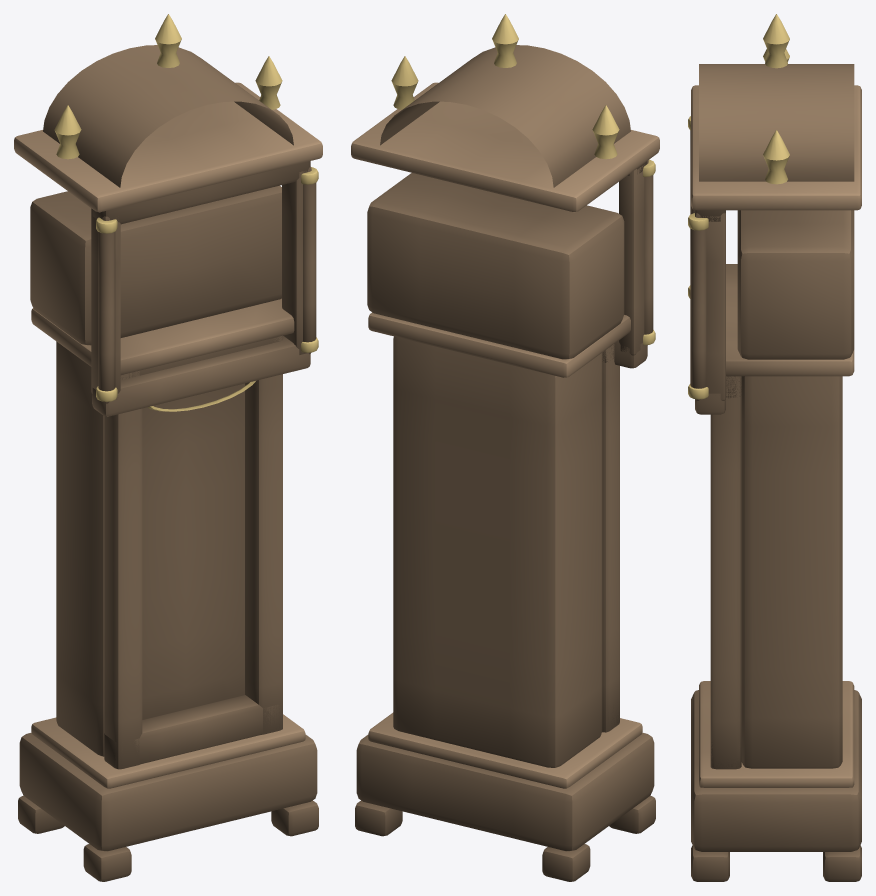
Rendered from obj_kit_clock.glb.
3 renders of one model, left to right at view 1: azimuth 30°, elevation 25°; view 2: azimuth 150°, elevation 25°; view 3: azimuth 270°, elevation 25°, orthographic.
Parts seen in each view (by area): view 1: Cube.006, Cube.012, Cube.004, Cube.017, Cylinder.006, Cube.007, Cube.008, Cube.011, Cube.014, Cube.009, Cube.005, Cube.013 (+11 smaller); view 2: Cube.006, Cube.012, Cube.004, Cube.017, Cylinder.006, Cube.007, Cube.005, Cube.011, Cube.015, Cylinder, Cube.001, Cube.003 (+5 smaller); view 3: Cube.006, Cube.012, Cylinder.006, Cube.004, Cube.008, Cube.017, Cube.005, Cube.016, Cube.011, Cylinder.003, Cube.002, Cube.003 (+3 smaller).
Boxes of the visible parts, box(x1,y1,x2,y2) form: Cube.006: box(56, 341, 244, 756); Cube.012: box(30, 185, 281, 345); Cube.004: box(19, 732, 317, 851); Cube.017: box(14, 82, 322, 212); Cylinder.006: box(43, 45, 293, 187); Cube.007: box(104, 371, 142, 769); Cube.008: box(245, 335, 282, 734); Cube.011: box(31, 298, 294, 374); Cube.014: box(92, 336, 310, 416); Cube.009: box(104, 695, 282, 766); Cube.005: box(31, 714, 305, 788); Cube.013: box(92, 161, 310, 224); Cube.006: box(393, 336, 602, 767); Cube.012: box(367, 173, 624, 359); Cube.004: box(356, 732, 654, 851); Cube.017: box(351, 82, 659, 212); Cylinder.006: box(380, 45, 630, 187); Cube.007: box(602, 344, 619, 732); Cube.005: box(368, 712, 642, 788); Cube.011: box(368, 312, 630, 377); Cube.015: box(619, 160, 648, 355); Cylinder: box(644, 175, 653, 334); Cube.001: box(542, 844, 590, 881); Cube.003: box(355, 800, 402, 836); Cube.006: box(741, 376, 842, 768); Cube.012: box(737, 210, 854, 359); Cylinder.006: box(699, 64, 854, 181); Cube.004: box(691, 690, 861, 851); Cube.008: box(710, 376, 741, 769); Cube.017: box(691, 85, 861, 210); Cube.005: box(699, 681, 854, 787); Cube.016: box(695, 213, 725, 400); Cube.011: box(726, 264, 854, 376); Cylinder.003: box(690, 229, 706, 388); Cube.002: box(691, 845, 729, 881); Cube.003: box(823, 845, 861, 881).
Size of the model in its own units: 0.68 by 2.32 by 0.448.
